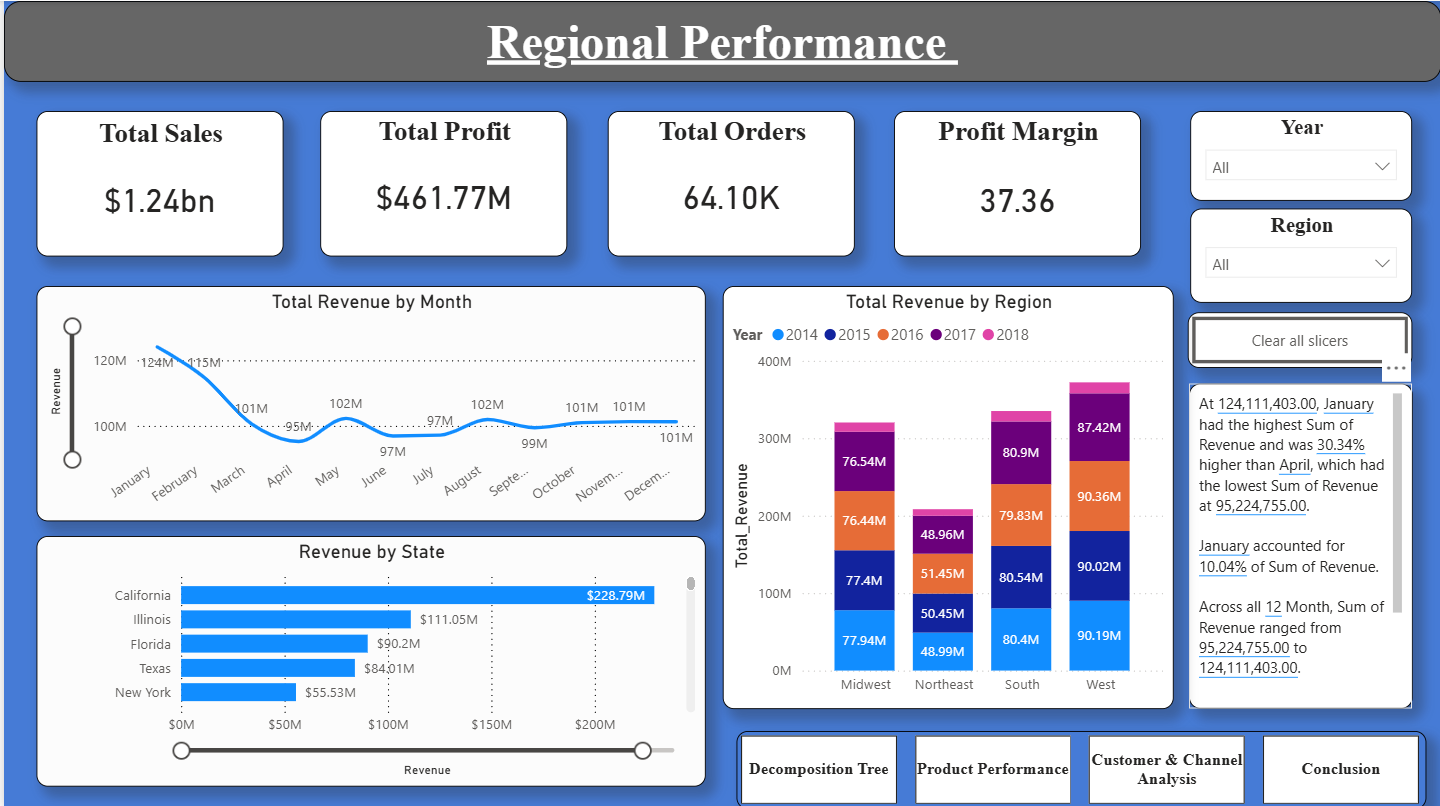

What the dashboard file says about the page in this screenshot:
{"tool":"powerbi","page":{"name":"Regional Performance","canvas":[1280,720],"ordinal":2},"visuals":[{"type":"textbox","box":[0,0,1280,72.4],"z":0},{"type":"card","title":"Total Sales","fields":{"Values":["Measure.Total_Revenue"]},"box":[29.3,97.8,220.1,129.6],"z":1000},{"type":"card","title":"Total Profit","fields":{"Values":["Measure.Total Profit"]},"box":[281.3,97.8,220.1,129.6],"z":2000},{"type":"card","title":"Total Orders","fields":{"Values":["Measure.Total Orders"]},"box":[538,97.8,220.1,129.6],"z":3000},{"type":"card","title":" Profit Margin","fields":{"Values":["Measure.Profit_margin %"]},"box":[792.4,97.8,220.1,129.6],"z":4000},{"type":"lineChart","title":"Total Revenue by Month","fields":{"Y":["Sum(Sales_Data.Revenue)"],"Category":["Sales_Data.OrderDate.Variation.Date Hierarchy.Month"]},"box":[29,253.4,596,209.9],"z":5000},{"type":"slicer","title":"Year","fields":{"Values":["Sales_Data.OrderDate.Variation.Date Hierarchy.Year"]},"box":[1056.2,97.5,197.5,80],"z":6000},{"type":"clusteredBarChart","title":" Revenue by State","fields":{"Category":["Regions.state"],"Y":["Sum(Sales_Data.Revenue)"]},"box":[29,476.5,596,223.2],"z":7000},{"type":"slicer","title":"Region","fields":{"Values":["Regions.region"]},"box":[1056.2,185,197.5,83.8],"z":8000},{"type":"actionButton","box":[1054.4,277.5,200.3,49.5],"z":9000},{"type":"pageNavigator","box":[652.7,650.3,614.1,70],"z":10000},{"type":"textbox","box":[1055.6,340.2,199.1,289.5],"z":11000},{"type":"columnChart","title":"Total Revenue by Region ","fields":{"Y":["Measure.Total_Revenue"],"Category":["Regions.region"],"Series":["Sales_Data.OrderDate.Variation.Date Hierarchy.Year"]},"box":[640.6,253.4,401.7,376.4],"z":12000}]}

Visuals, with their boxes in screenshot pixels (x1, y1, x2, y2), scaled from the page's 1280x720 canvas onto the 1440x806 screenshot:
textbox: (0,0,1439,81)
"Total Sales" card: (33,109,281,255)
"Total Profit" card: (316,109,564,255)
"Total Orders" card: (605,109,853,255)
" Profit Margin" card: (891,109,1139,255)
"Total Revenue by Month" lineChart: (33,284,703,519)
"Year" slicer: (1188,109,1410,199)
" Revenue by State" clusteredBarChart: (33,533,703,783)
"Region" slicer: (1188,207,1410,301)
actionButton: (1186,311,1412,366)
pageNavigator: (734,728,1425,805)
textbox: (1188,381,1412,705)
"Total Revenue by Region " columnChart: (721,284,1173,705)
